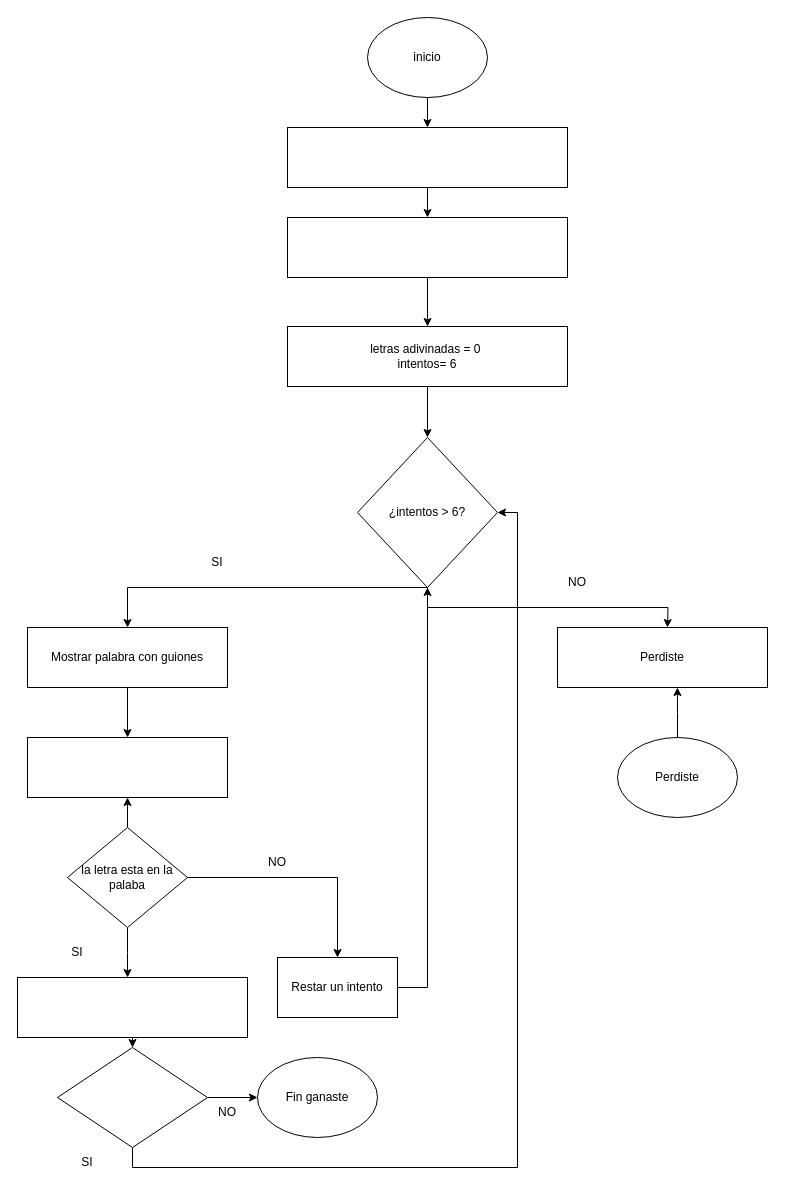
This 785x1195 diagram has some shape labels left out. Here are the shapes that lost their labels. From the top down, the box of each, then its label:
(286, 126, 568, 188): Mostrar mensaje de bienvenida
(286, 216, 568, 278): Elegir palabra aleatoria
(26, 736, 228, 798): Pedir letra al usuario
(16, 976, 248, 1038): Agregar letras adivinadas
(56, 1046, 208, 1148): Quedan guiones?
